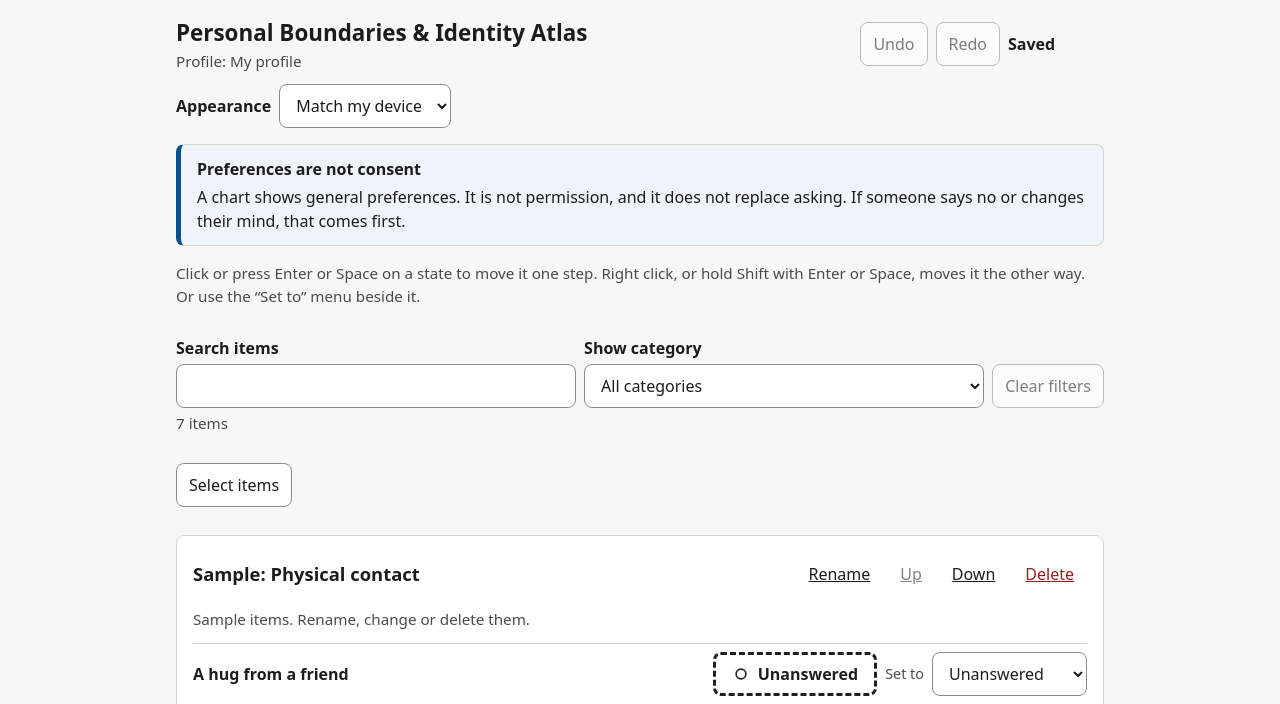
it: Appearance menu (M2-04) › clears the saved-failure message after a later choice is saved
Check: the heading "Personal Boundaries & Identity Atlas" is shown, box [176,16,588,50]
Select "Dark" in the dropdown labelled "Appearance" at (365, 106), box [279,84,451,128]
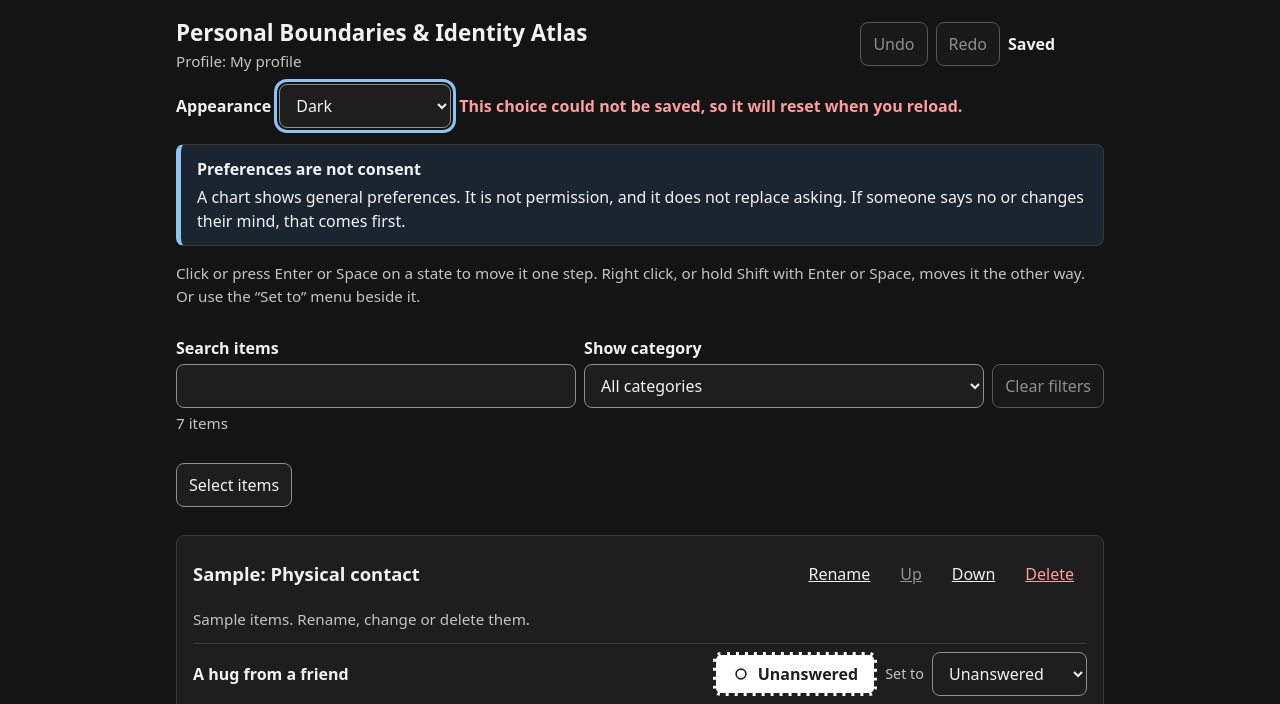
Check: the text "could not be saved" is shown, box [459,95,962,117]
Select "Light" in the dropdown labelled "Appearance" at (365, 106), box [279,84,451,128]
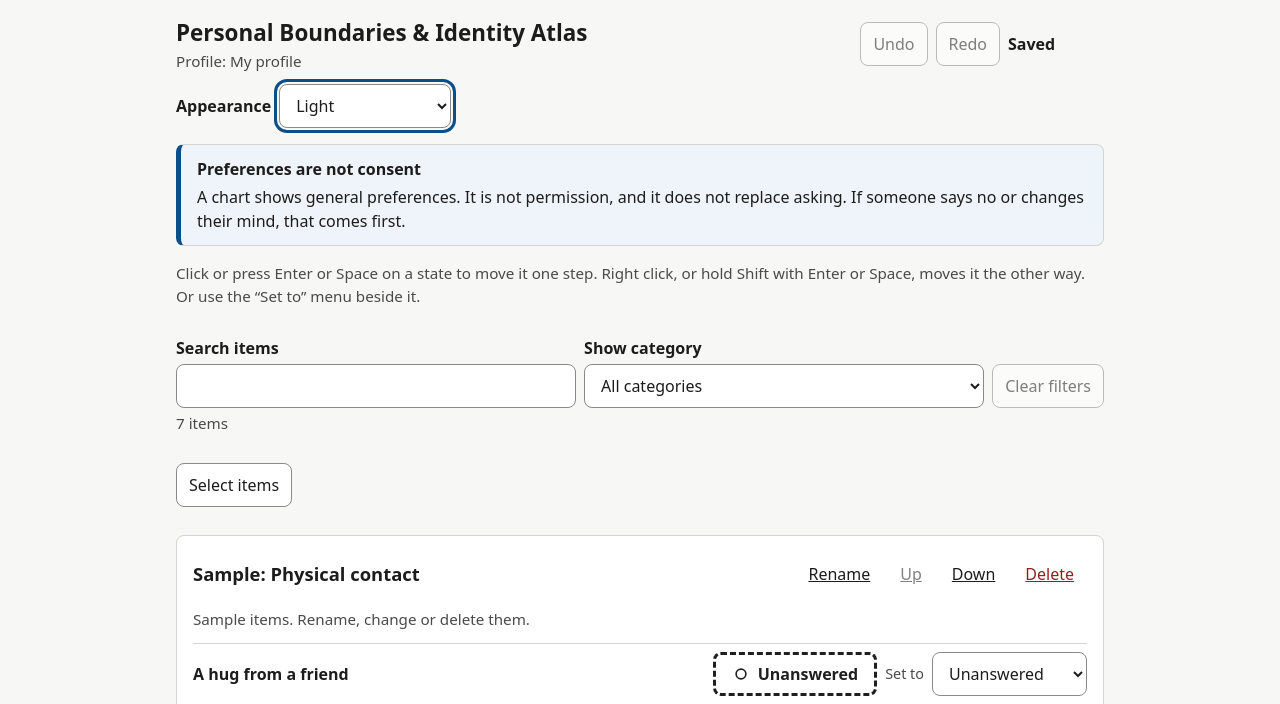
Check: the text "could not be saved" is gone
